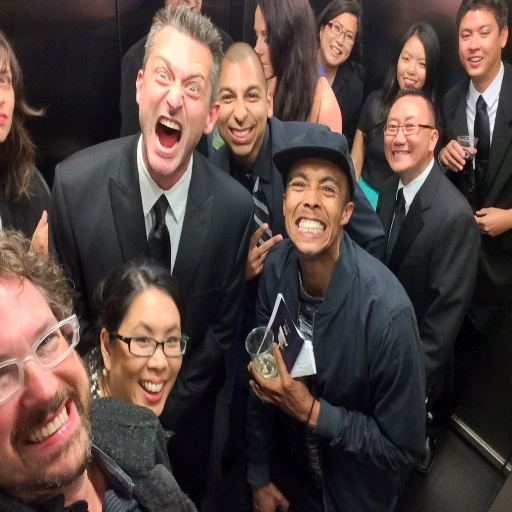hand: (256, 317, 325, 448), (246, 222, 284, 282), (438, 138, 478, 173), (475, 206, 510, 238), (251, 480, 288, 510)
